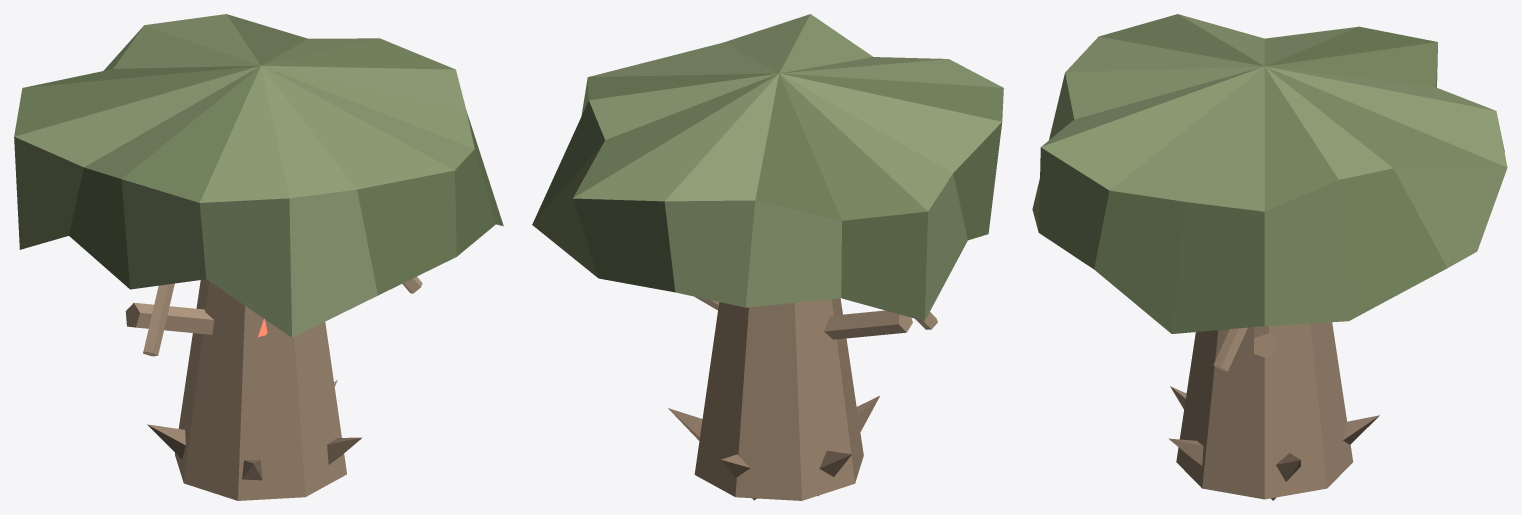
File: tree_evil.glb
3 views of the same model, side by side, from view 1: azimuth 30°, elevation 25°; view 2: azimuth 150°, elevation 25°; view 3: azimuth 270°, elevation 25° (orthographic).
Parts seen in each view (by area): view 1: tree_evil; view 2: tree_evil; view 3: tree_evil.
Part boxes in pixels (x1,y1,x2,y2): tree_evil: (14, 14, 503, 500); tree_evil: (532, 14, 1003, 500); tree_evil: (1032, 14, 1507, 500).
Bounding box in the file's own units: 5.39 × 5.43 × 5.66.
